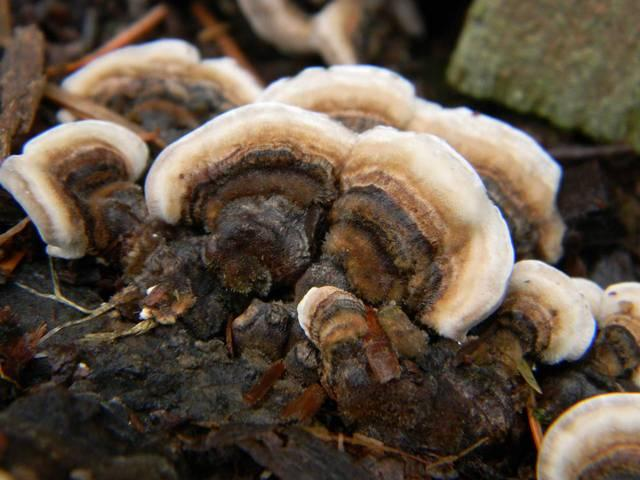Non-edible Mushroom: (68, 32, 640, 464), (319, 124, 516, 341), (0, 117, 149, 261), (534, 390, 638, 478)
